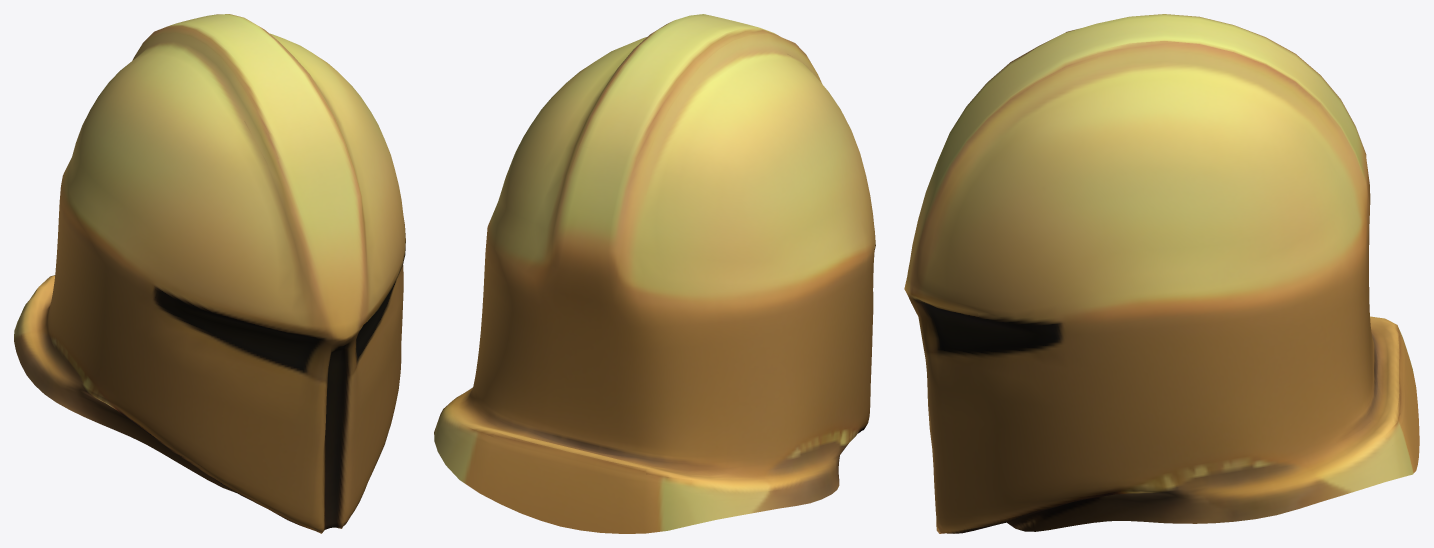
File: Gold Helmet.fbx
The picture shows the model from 3 angles, left to right: view 1: azimuth 30°, elevation 25°; view 2: azimuth 150°, elevation 25°; view 3: azimuth 270°, elevation 25°; orthographic projection. The views are drawn at different scales.
Visible parts, largest first — view 1: model.004; view 2: model.004; view 3: model.004.
Boxes of the visible parts, x1,y1,x2,y2 form: model.004: (14, 14, 405, 533); model.004: (434, 14, 875, 533); model.004: (904, 14, 1419, 533).
Bounding box in the file's own units: 57.09 × 72.59 × 67.49.
